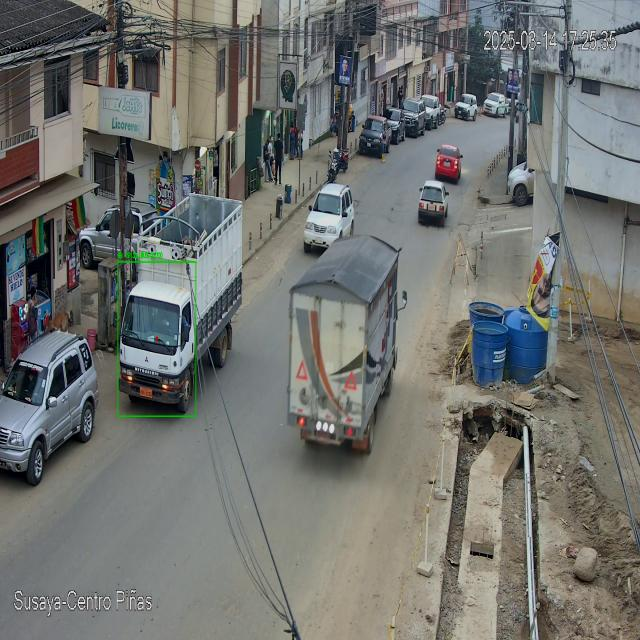SUV: (303, 181, 358, 255)
TRUCK: (119, 194, 242, 413), (288, 238, 400, 454)
